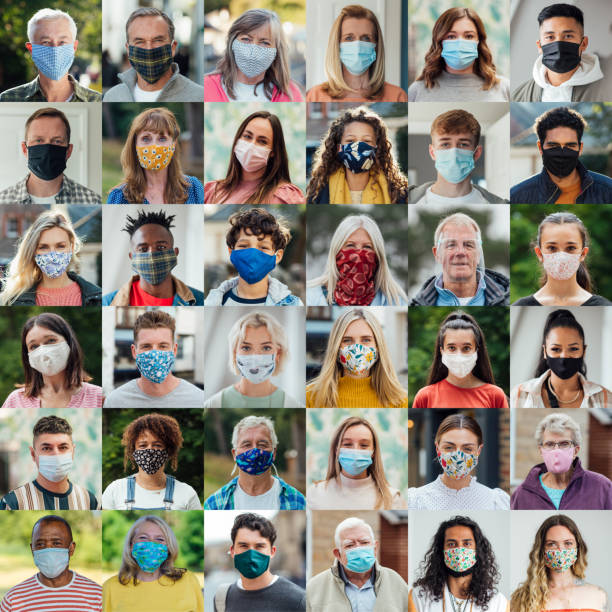with mask: (327, 221, 389, 301), (25, 12, 85, 81), (328, 306, 387, 376), (123, 7, 175, 84), (19, 320, 77, 379), (130, 329, 188, 388), (536, 221, 594, 280), (230, 225, 288, 284), (125, 226, 183, 285), (19, 218, 77, 277), (429, 121, 487, 180), (336, 120, 394, 179), (222, 118, 280, 177), (125, 117, 183, 176), (18, 120, 76, 179), (531, 12, 589, 71), (435, 17, 493, 76), (327, 15, 385, 74), (227, 22, 285, 81), (225, 417, 283, 476), (122, 418, 180, 477), (24, 428, 82, 487), (430, 321, 488, 380), (227, 323, 285, 382), (528, 417, 586, 476), (429, 420, 487, 479), (327, 421, 385, 480), (120, 517, 178, 576), (18, 518, 76, 577), (222, 521, 280, 580), (531, 518, 589, 577), (432, 523, 490, 582), (326, 526, 384, 585), (540, 321, 589, 384)
without mask: (434, 224, 492, 283)
